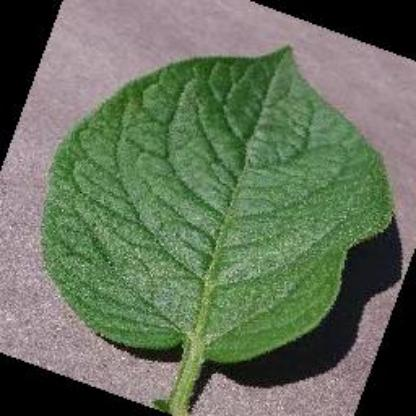Healthy-plant: (38, 42, 396, 412)
